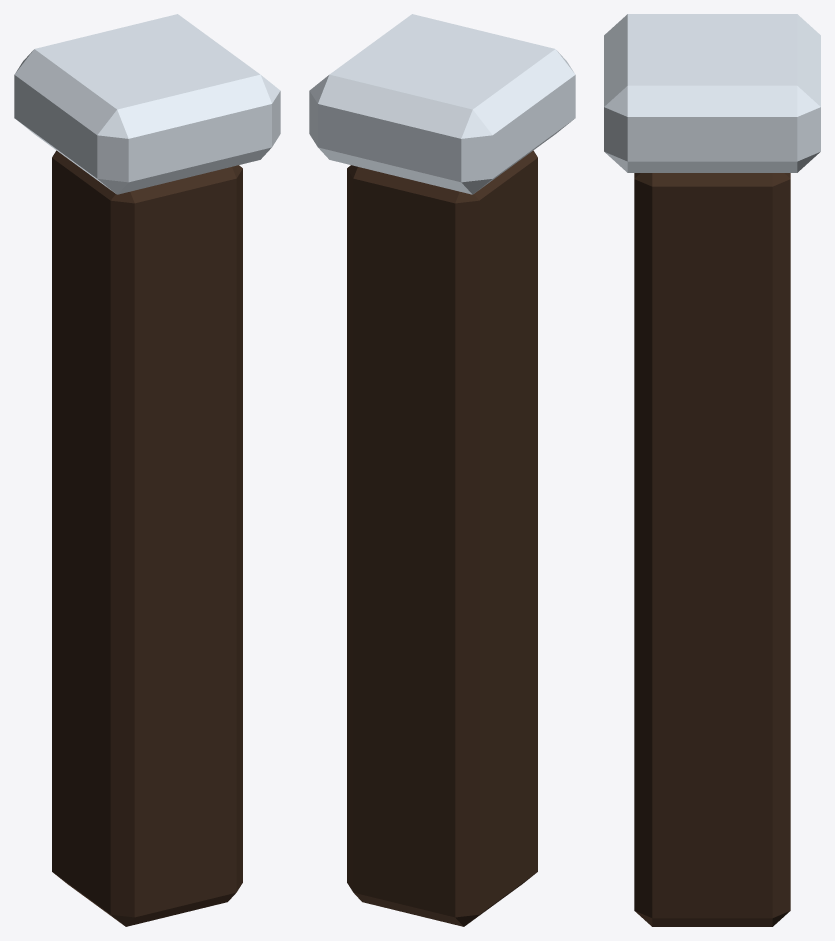
File: Prop_FencePost.fbx
3 views of the same model, side by side, from view 1: azimuth 30°, elevation 25°; view 2: azimuth 150°, elevation 25°; view 3: azimuth 270°, elevation 25° (orthographic). The views are drawn at different scales.
Visible parts, largest first — view 1: Prop_FencePost; view 2: Prop_FencePost; view 3: Prop_FencePost.
Part boxes in pixels (x1,y1,x2,y2): Prop_FencePost: (14,14,280,926); Prop_FencePost: (309,14,575,926); Prop_FencePost: (604,14,820,926).
Bounding box in the file's own units: 36 × 156 × 36.
